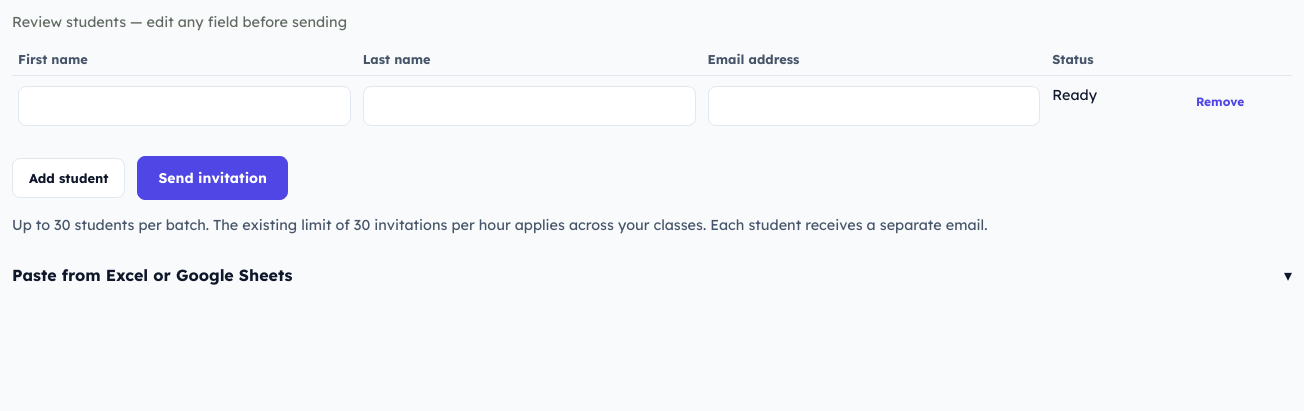
Scenario: blocks empty names and duplicate emails before sending
The width and height of the screenshot is (1304, 411).
Type "Sam" into the field named "First name 1" at x=184, y=106, box x1=18 y1=86 x2=351 y2=126
Type "Reader" into the field named "Last name 1" at x=529, y=106, box x1=363 y1=86 x2=696 y2=126
Type "TEST@example.test" into the field named "Email address 1" at x=874, y=106, box x1=708 y1=86 x2=1040 y2=126
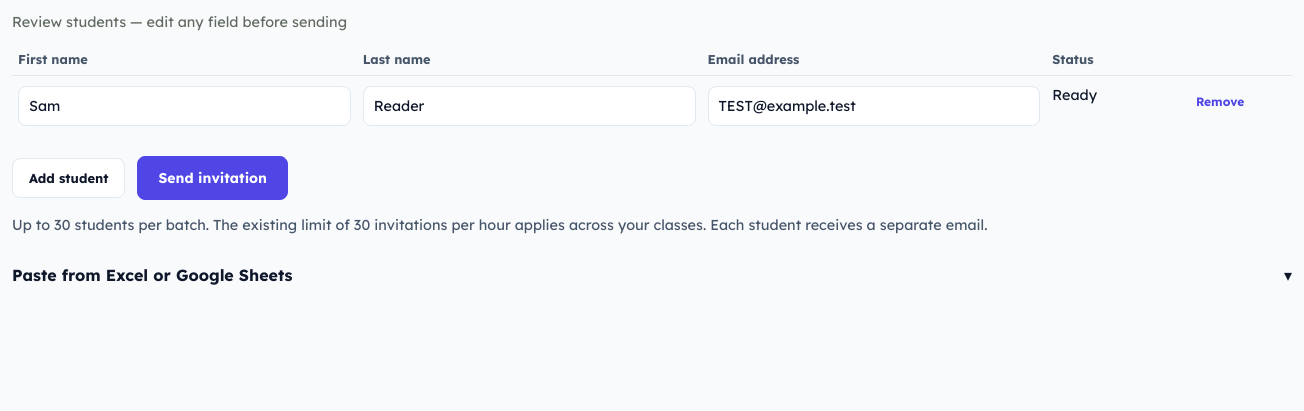
Click the button "Add student" at x=69, y=178, box x1=12 y1=158 x2=125 y2=198
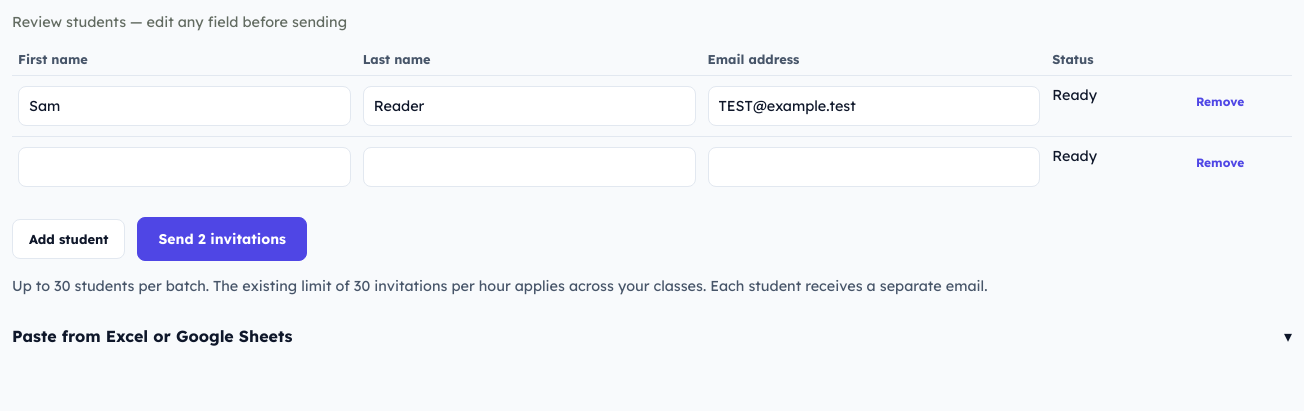
Type "Sam" into the field named "First name 2" at x=184, y=167, box x1=18 y1=147 x2=351 y2=187
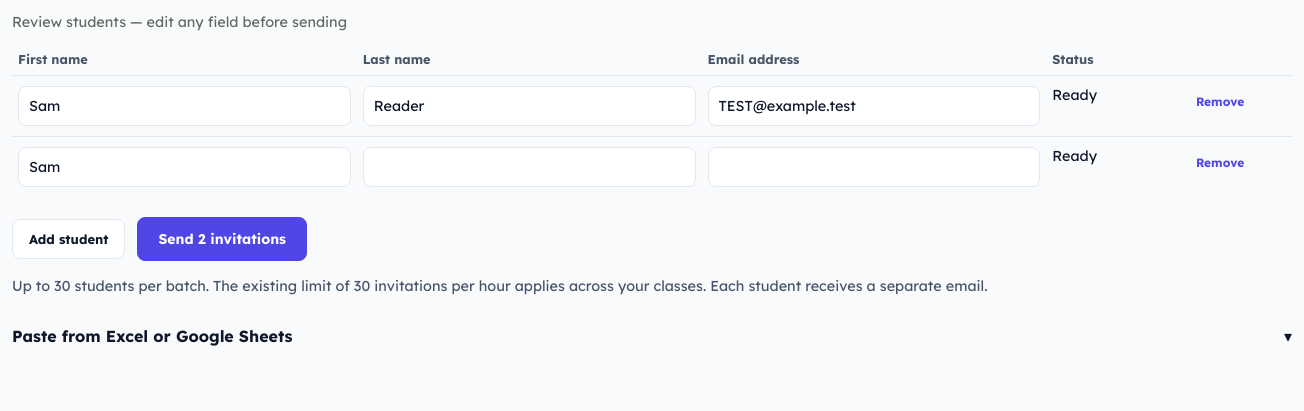
Type "Reader" into the field named "Last name 2" at x=529, y=167, box x1=363 y1=147 x2=696 y2=187
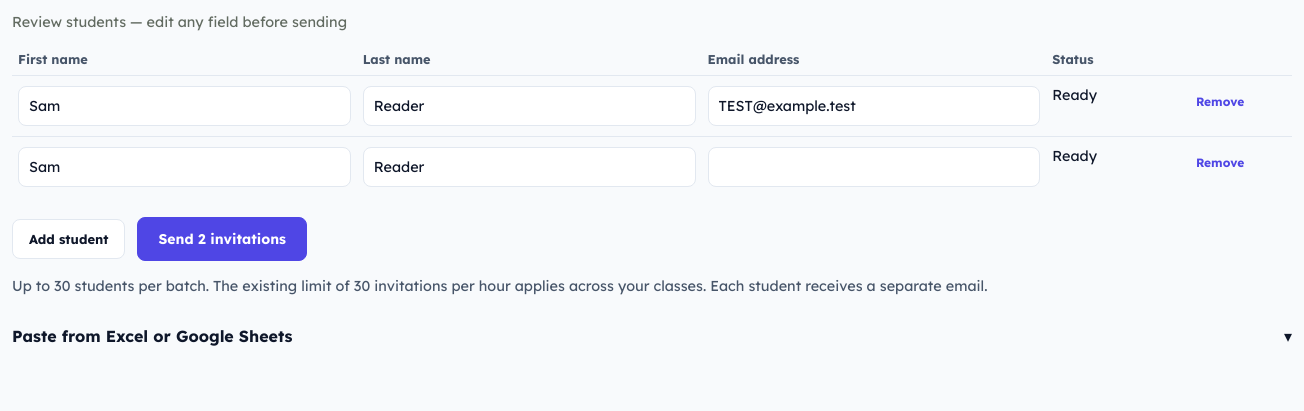
Type "test@example.test" into the field named "Email address 2" at x=874, y=167, box x1=708 y1=147 x2=1040 y2=187
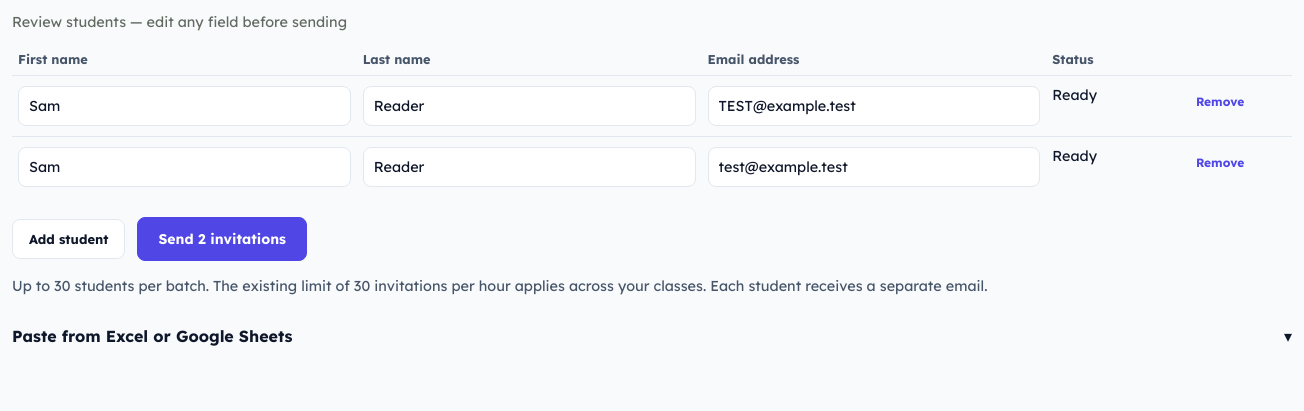
Click the button "Send 2 invitations" at x=222, y=239, box x1=137 y1=217 x2=307 y2=261
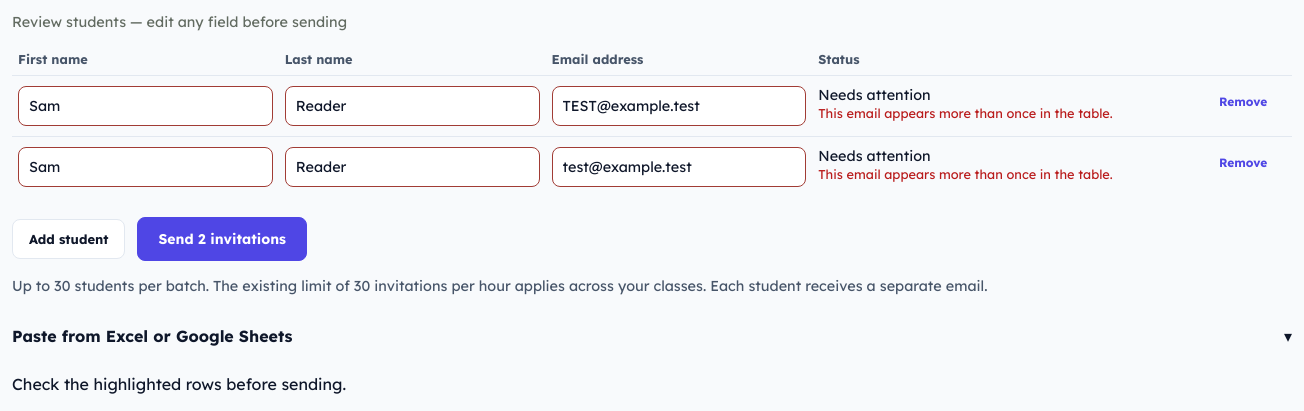
Check: the text "This email appears more than once in the table." is shown 2 times, box x1=818 y1=105 x2=1113 y2=121; x1=818 y1=166 x2=1113 y2=182
